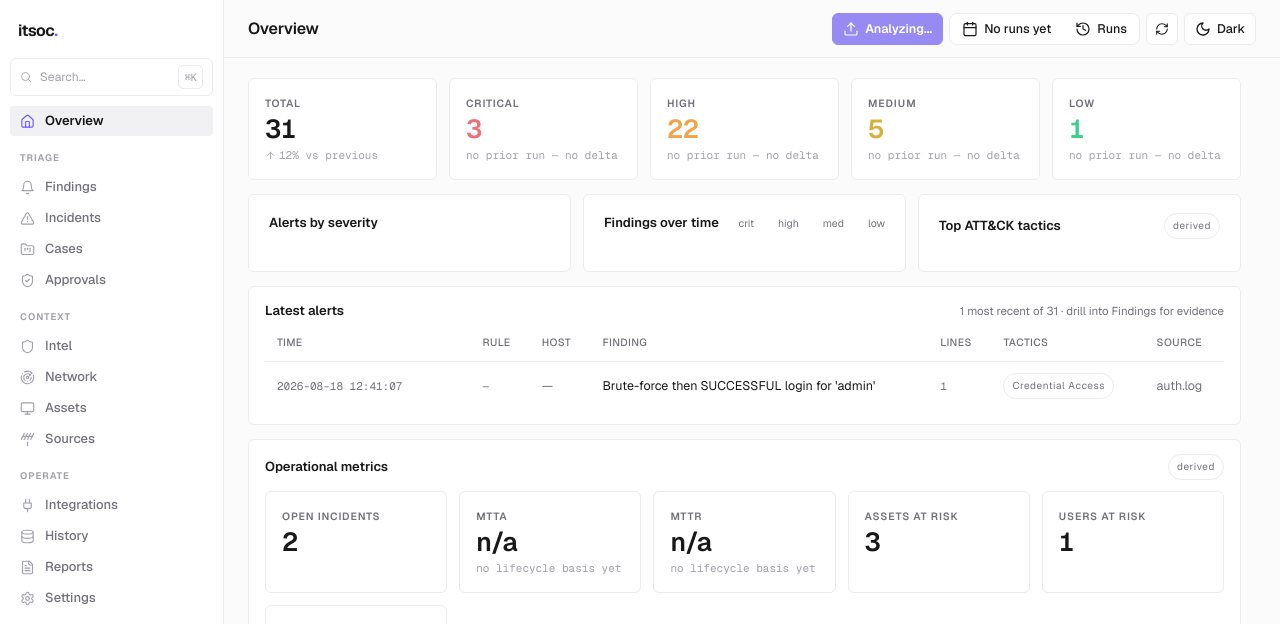
Test: Integrations Page (Sovereign Connectors Gallery) › navigates to Integrations via Command Palette and renders gallery
Expected: the element with test id "wordmark" is shown, [18,21,57,41]
Click the button with aria-label "open command palette". click: x=112, y=77
box: [10,58,213,96]
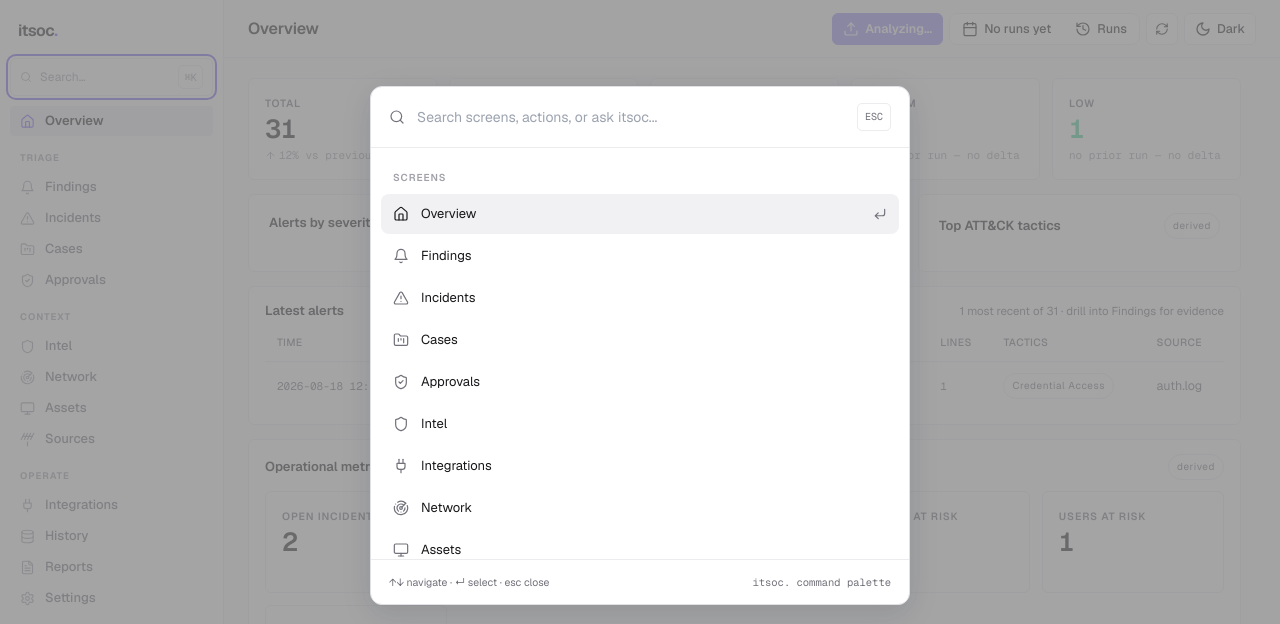
Type "Integrations" into the field with placeholder "Search screens, actions, or ask itsoc...". click: x=631, y=117
box: [417,107,845,127]
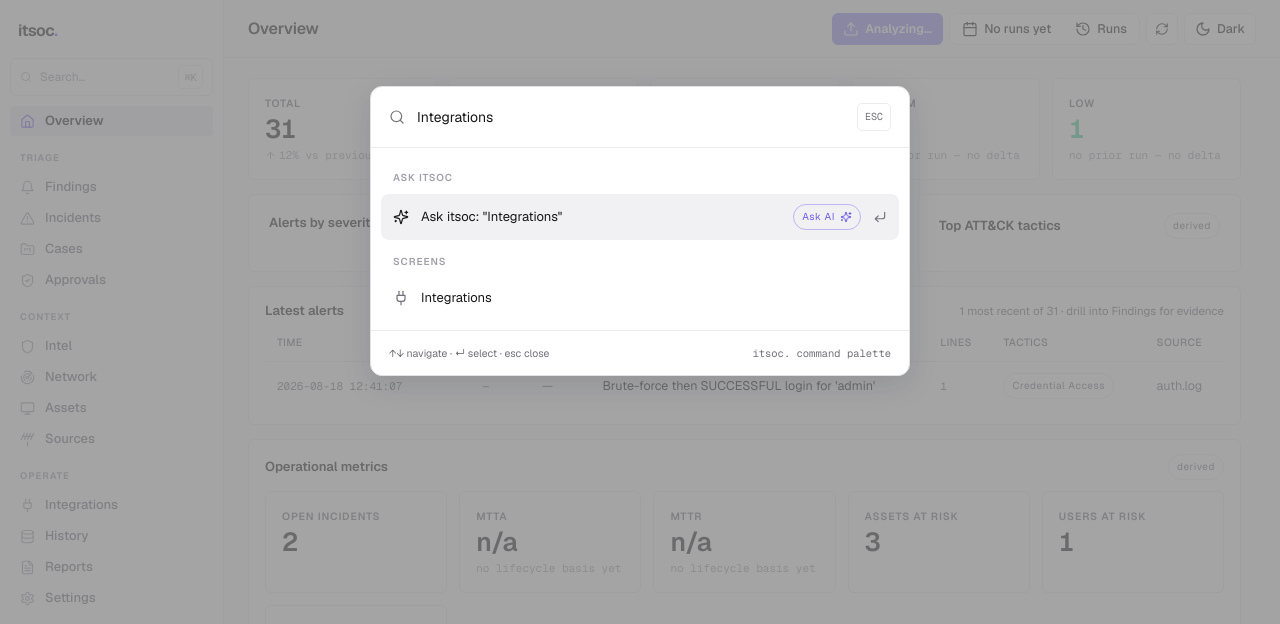
Click the button "Integrations". click: x=456, y=298
box: [381,278,899,318]
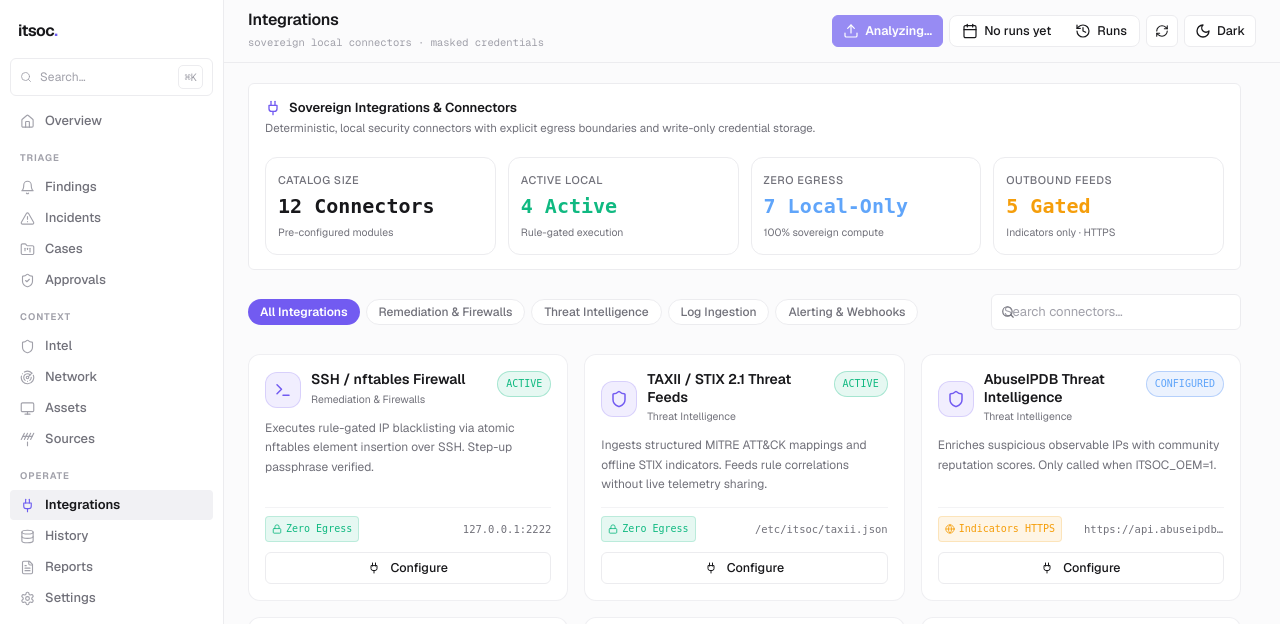
Result: the heading "Sovereign Integrations & Connectors" is shown at [265,99,517,116]
Result: the heading "SSH / nftables Firewall" is shown at [311,371,466,388]
Result: the heading "TAXII / STIX 2.1 Threat Feeds" is shown at [647,370,791,406]
